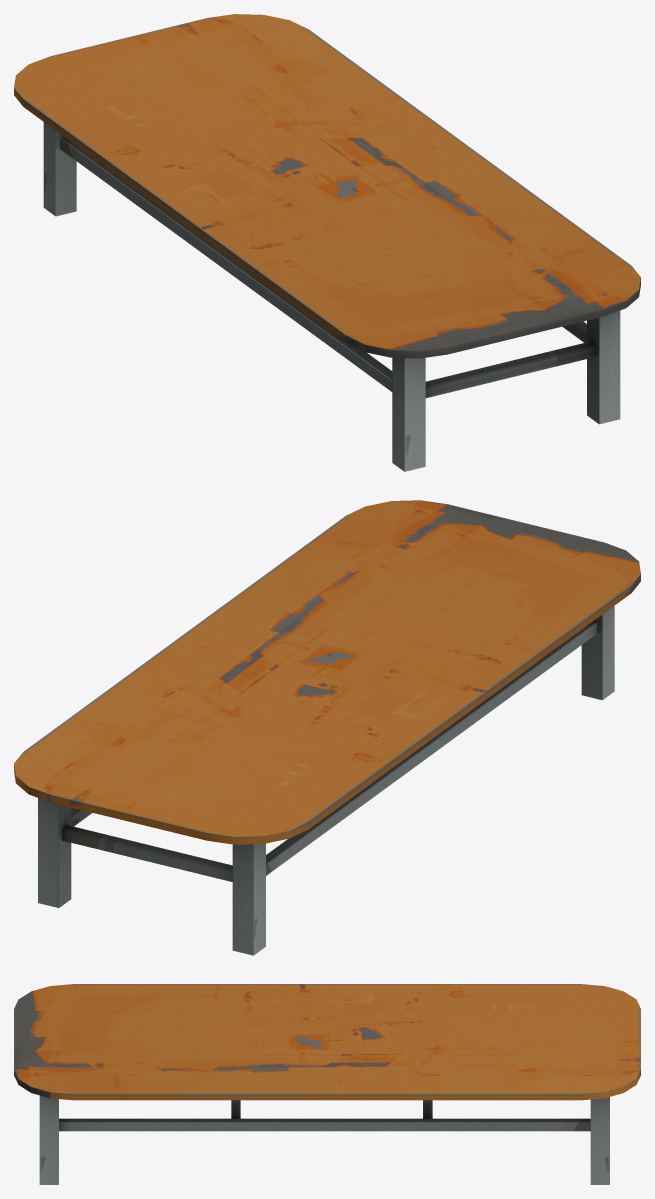
Rendered from Asset_Garage1_3.fbx.
The picture shows the model from 3 angles, top to bottom: view 1: azimuth 30°, elevation 25°; view 2: azimuth 150°, elevation 25°; view 3: azimuth 270°, elevation 25°; orthographic projection. The views are drawn at different scales.
Parts seen in each view (by area): view 1: Asset_Garage1_3; view 2: Asset_Garage1_3; view 3: Asset_Garage1_3.
Part boxes in pixels (box(x1,y1,x2,y2)): Asset_Garage1_3: box(14, 14, 640, 471); Asset_Garage1_3: box(14, 500, 640, 955); Asset_Garage1_3: box(14, 984, 640, 1184).
Bounding box in the file's own units: 102 × 44.33 × 244.
